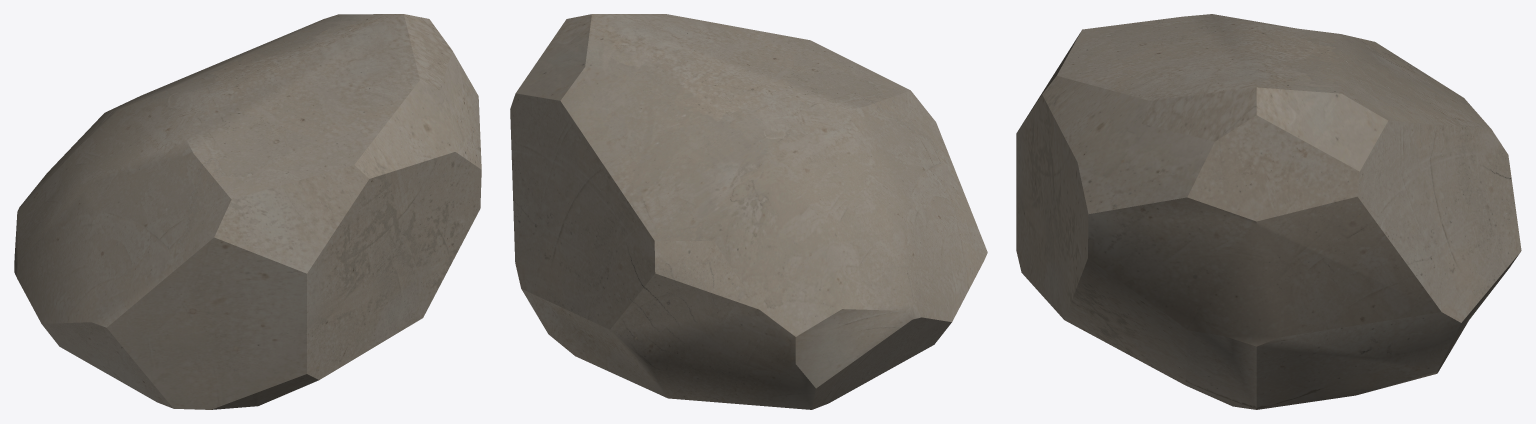
The model's file is Rock7.fbx.
3 renders of one model, left to right at view 1: azimuth 30°, elevation 25°; view 2: azimuth 150°, elevation 25°; view 3: azimuth 270°, elevation 25°, orthographic. The views are drawn at different scales.
Visible parts, largest first — view 1: Rock7; view 2: Rock7; view 3: Rock7.
Boxes of the visible parts, box(x1,y1,x2,y2) form: Rock7: box(14, 14, 481, 409); Rock7: box(510, 14, 987, 409); Rock7: box(1016, 14, 1521, 409).
Size of the model in its own units: 345 by 222 by 307.
Materials: 1 (1 with a texture image).
